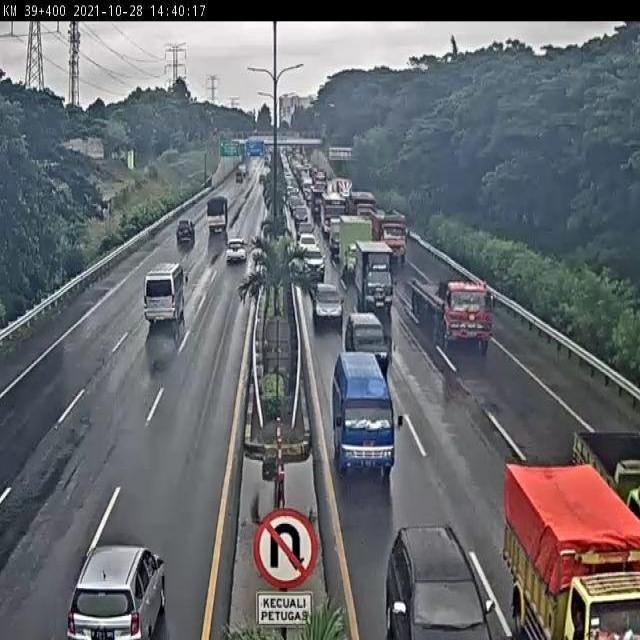car: (66, 545, 168, 640), (346, 312, 390, 365), (312, 281, 345, 324), (302, 241, 327, 279), (226, 236, 247, 265), (177, 217, 196, 240)
truck: (332, 351, 397, 473), (408, 271, 495, 348), (144, 260, 188, 324), (356, 239, 394, 313), (339, 212, 373, 281), (369, 206, 408, 262)
